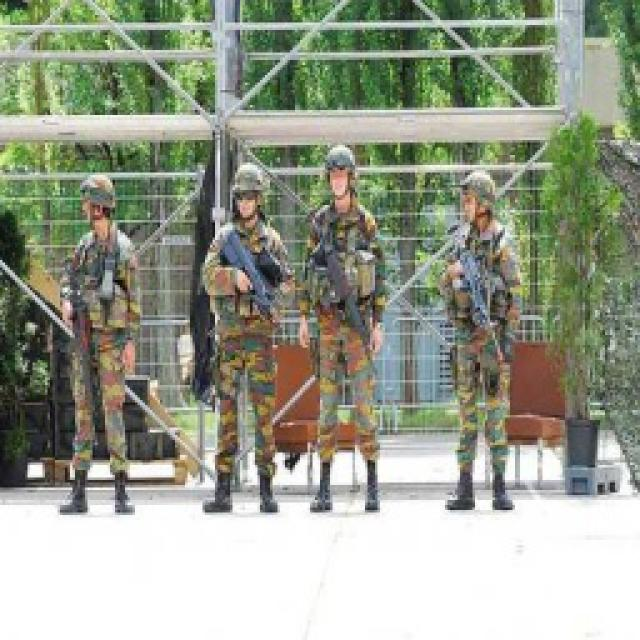long weapon: (446, 246, 524, 364), (217, 234, 285, 330)
